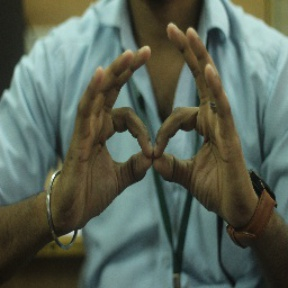B: (98, 101, 224, 197)
